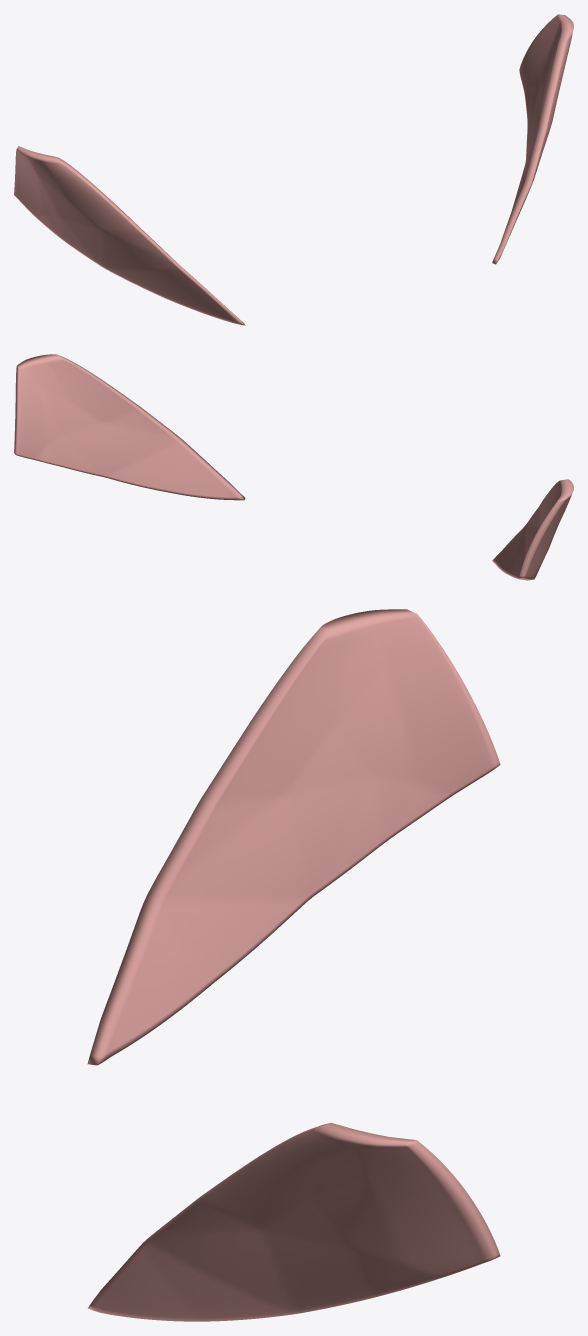
The model's file is dao.glb.
The picture shows the model from 3 angles, top to bottom: view 1: azimuth 30°, elevation 25°; view 2: azimuth 150°, elevation 25°; view 3: azimuth 270°, elevation 25°; orthographic projection. The views are drawn at different scales.
Parts seen in each view (by area): view 1: dao_R, dao_L; view 2: dao_L, dao_R; view 3: dao_R, dao_L.
Boxes of the visible parts, bbox=[...] form: dao_R: bbox=[14, 146, 245, 325]; dao_L: bbox=[492, 14, 573, 264]; dao_L: bbox=[14, 354, 245, 500]; dao_R: bbox=[492, 479, 573, 580]; dao_R: bbox=[87, 609, 500, 1065]; dao_L: bbox=[87, 1122, 500, 1321].
Size of the model in its own units: 0.0816 by 0.022 by 0.0266.
